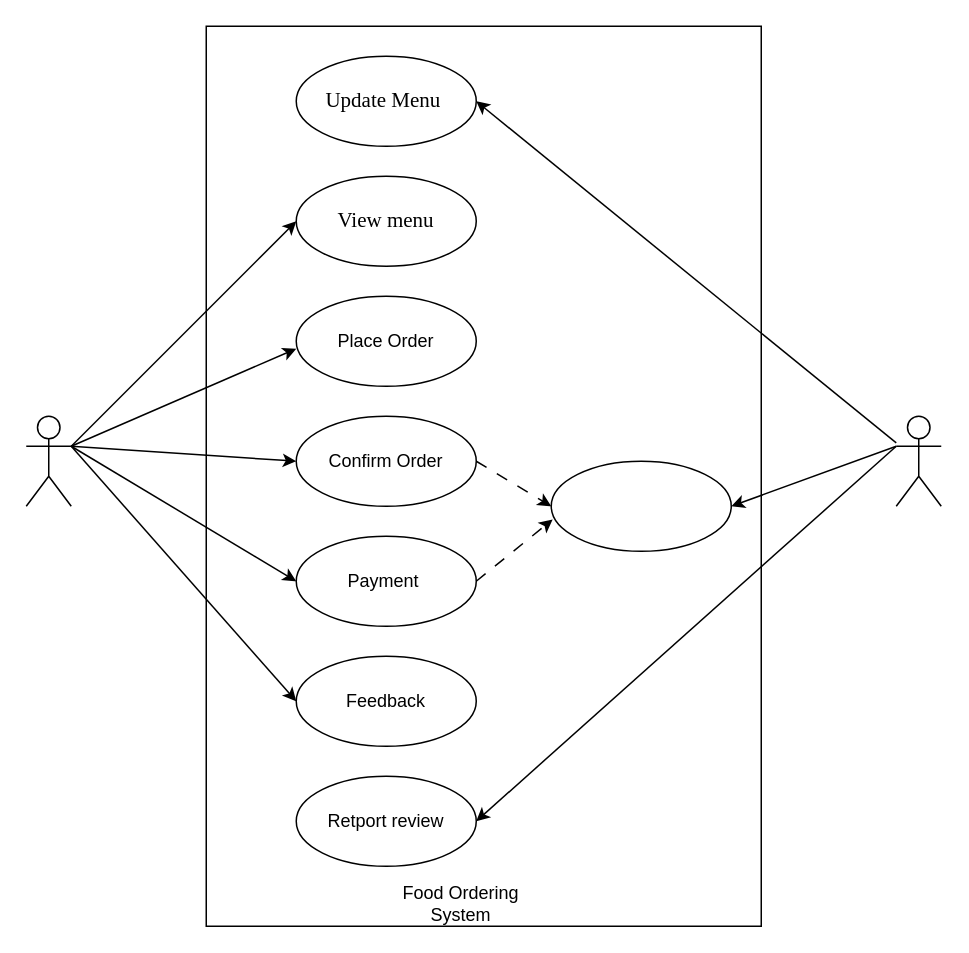
Image size: 969x953. Some labels were removed from this diagram. The shapes that lost their labels are listed below. From the top down, each one's centre as x and y in pixels, then its label:
At point (48, 460): "User".
At point (918, 460): "Admin".
At point (640, 505): "Update Order Status".
